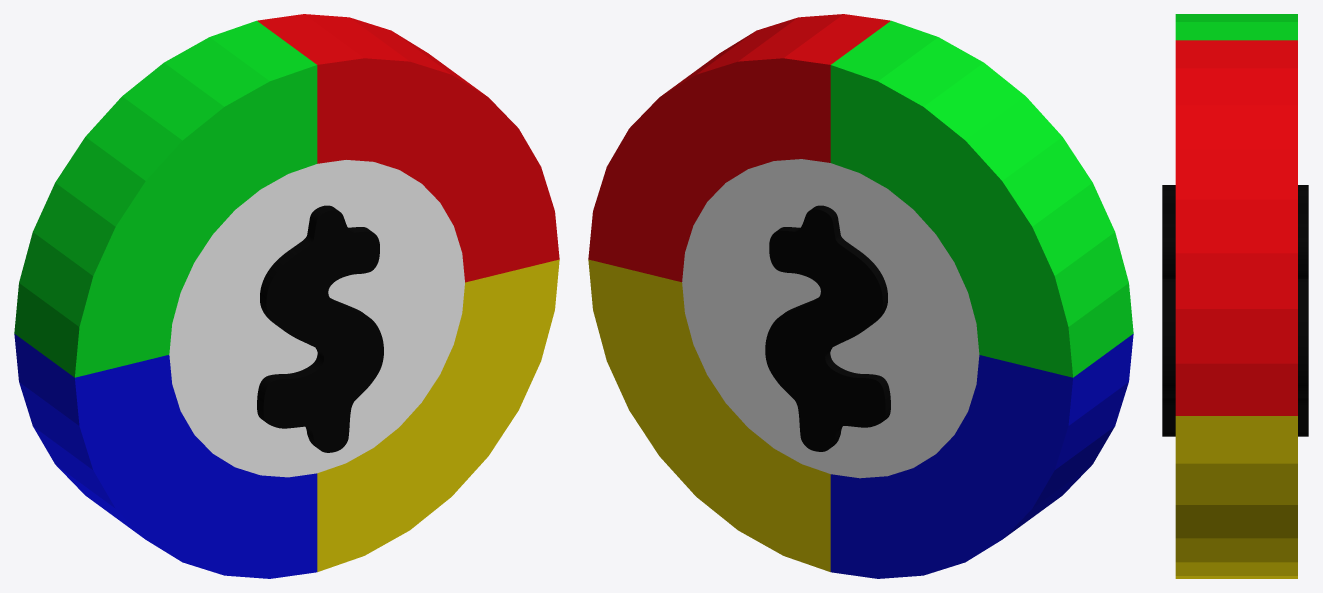
File: Coin.fbx
The picture shows the model from 3 angles, left to right: view 1: azimuth 30°, elevation 25°; view 2: azimuth 150°, elevation 25°; view 3: azimuth 270°, elevation 25°; orthographic projection.
Visible parts, largest first — view 1: Text; view 2: Text; view 3: Text.
Boxes of the visible parts, x1=… form: Text: x1=14, y1=14, x2=559, y2=578; Text: x1=588, y1=14, x2=1133, y2=578; Text: x1=1162, y1=14, x2=1308, y2=578.
Bounding box in the file's own units: 0.4647 × 0.4647 × 0.12.
